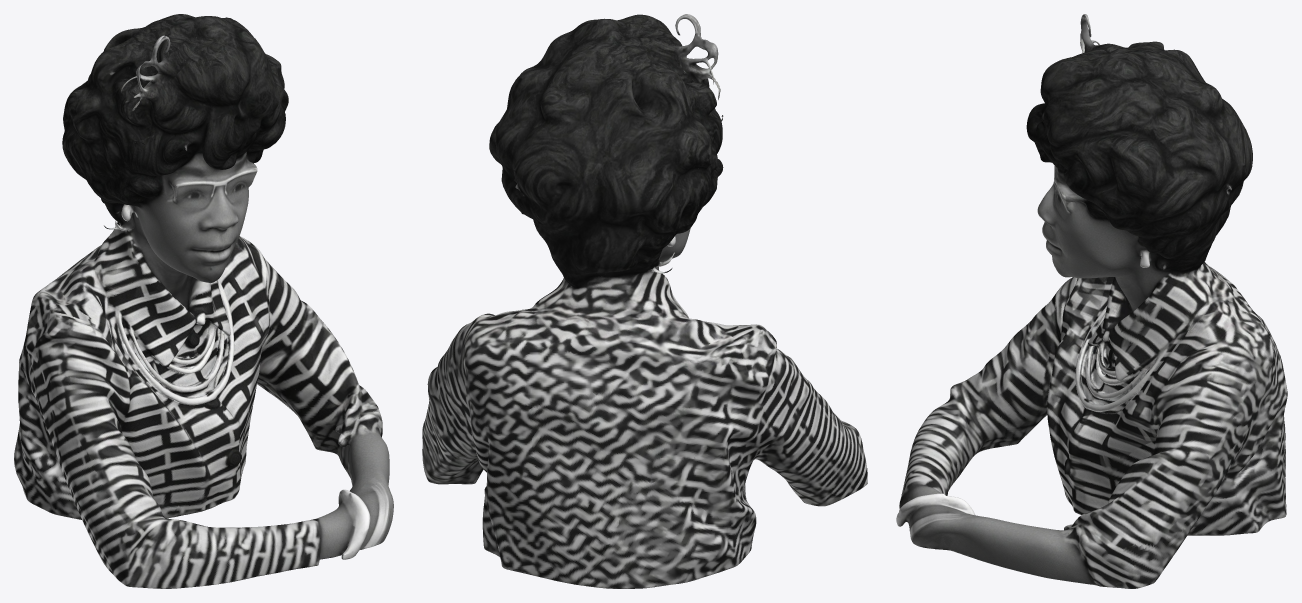
File: Meshy_AI_Shirley_Chisholm_1024060149_texture (2).glb
3 views of the same model, side by side, from view 1: azimuth 30°, elevation 25°; view 2: azimuth 150°, elevation 25°; view 3: azimuth 270°, elevation 25° (orthographic). The views are drawn at different scales.
Bounding box in the file's own units: 1.42 × 1.9 × 1.44.
Materials: 1 (1 with a texture image).
